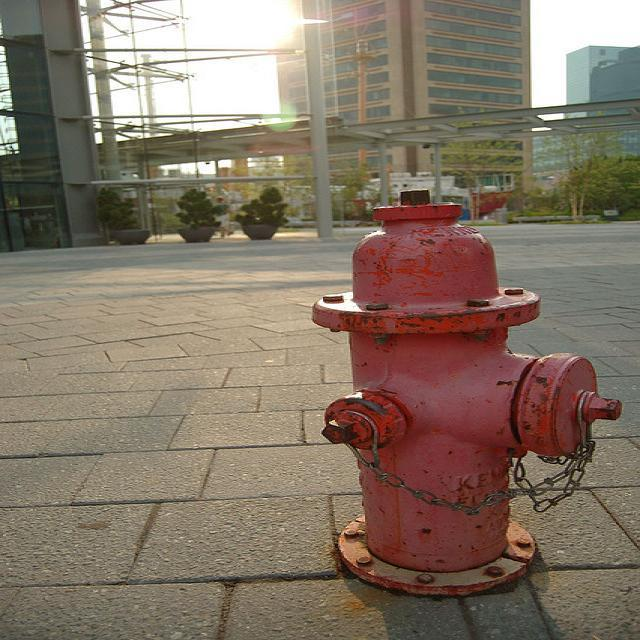fire_hydrant: (306, 185, 622, 601)
